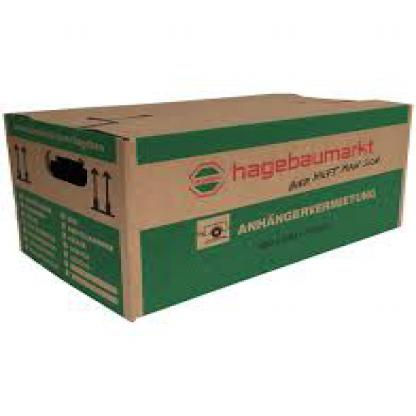CARDBOARD: (0, 93, 408, 318)
